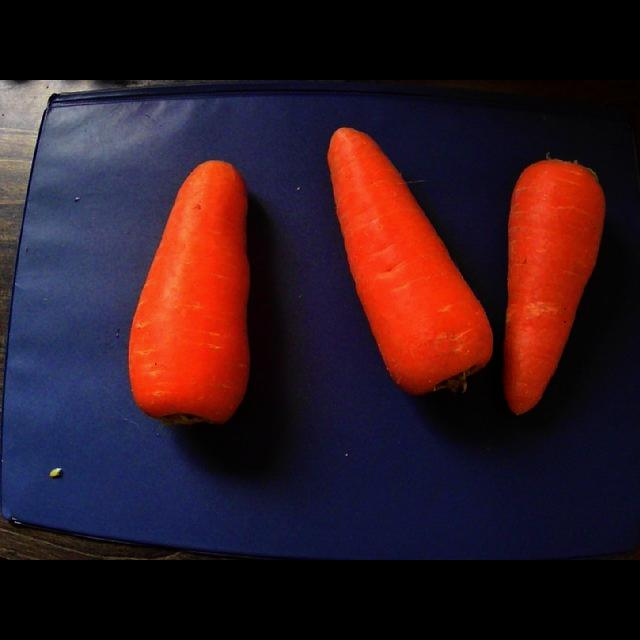zanahoria: (328, 128, 493, 394), (129, 160, 250, 424), (503, 159, 605, 414)
